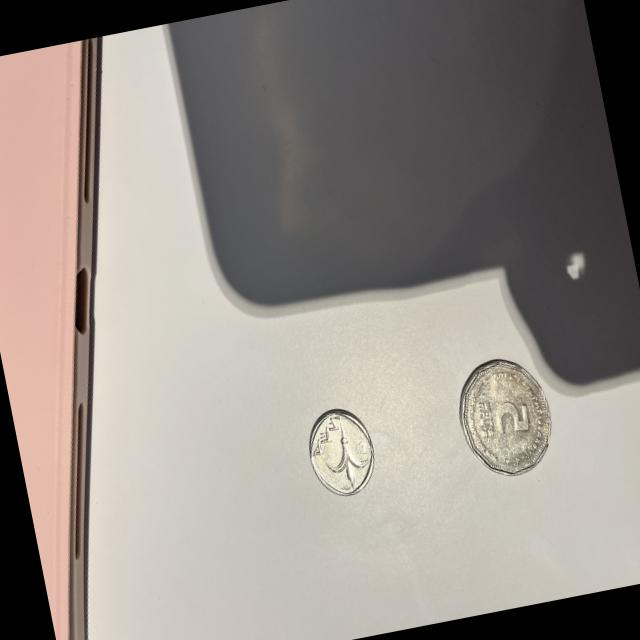1-shekel: (292, 401, 388, 508)
5-shekel: (442, 351, 563, 490)
